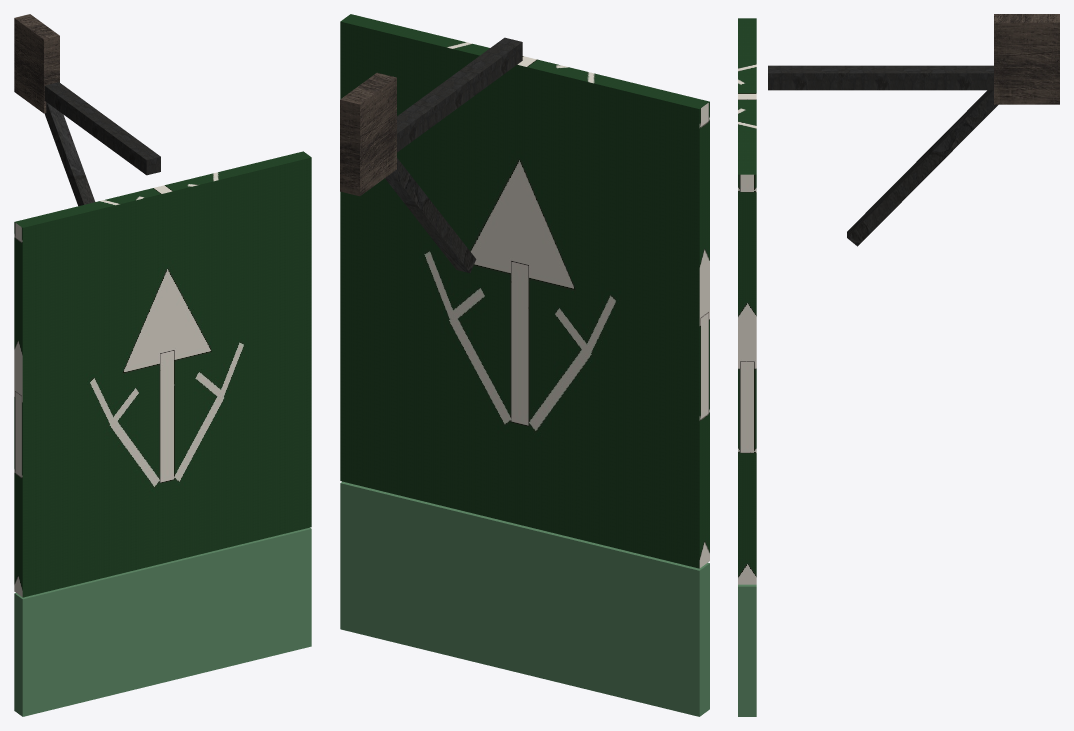
File: prop_hk_pennant_ranger.glb
3 views of the same model, side by side, from view 1: azimuth 30°, elevation 25°; view 2: azimuth 150°, elevation 25°; view 3: azimuth 270°, elevation 25° (orthographic). The views are drawn at different scales.
Parts seen in each view (by area): view 1: prop_hk_pennant_ranger; view 2: prop_hk_pennant_ranger; view 3: prop_hk_pennant_ranger.
Boxes of the visible parts, <box> form: prop_hk_pennant_ranger: <box>14,14,311,716</box>; prop_hk_pennant_ranger: <box>340,14,709,716</box>; prop_hk_pennant_ranger: <box>738,14,1059,716</box>.
Size of the model in its own units: 0.9 by 1.66 by 0.7825.
4 materials, 3 textured.
